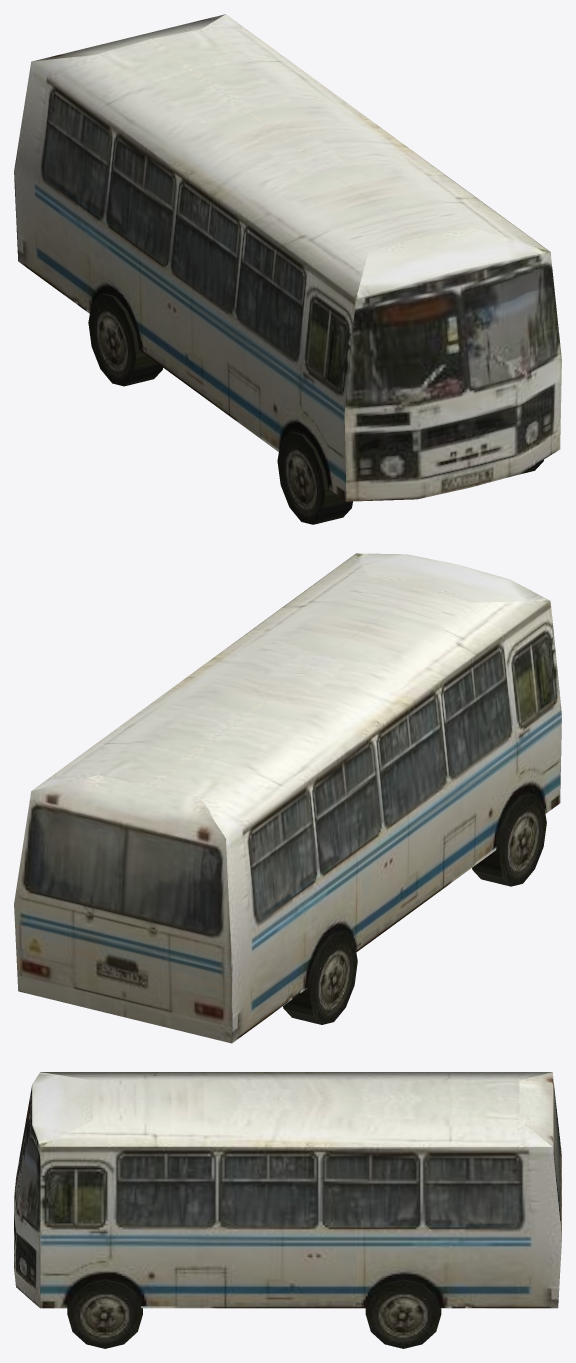
File: ps1_styled_bus.glb
3 renders of one model, top to bottom at view 1: azimuth 30°, elevation 25°; view 2: azimuth 150°, elevation 25°; view 3: azimuth 270°, elevation 25°, orthographic. The views are drawn at different scales.
Visible parts, largest first — view 1: Bus_0; view 2: Bus_0; view 3: Bus_0.
Boxes of the visible parts, box(x1,y1,x2,y2) form: Bus_0: box(14, 14, 561, 524); Bus_0: box(14, 553, 561, 1043); Bus_0: box(14, 1072, 561, 1348).
Size of the model in its own units: 2.29 by 2.6 by 6.21.
1 material, 1 textured.
